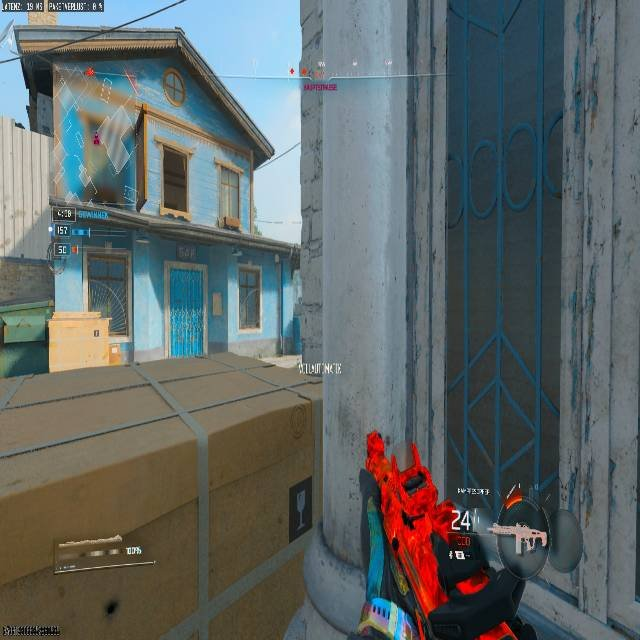head: (491, 500, 550, 577)
